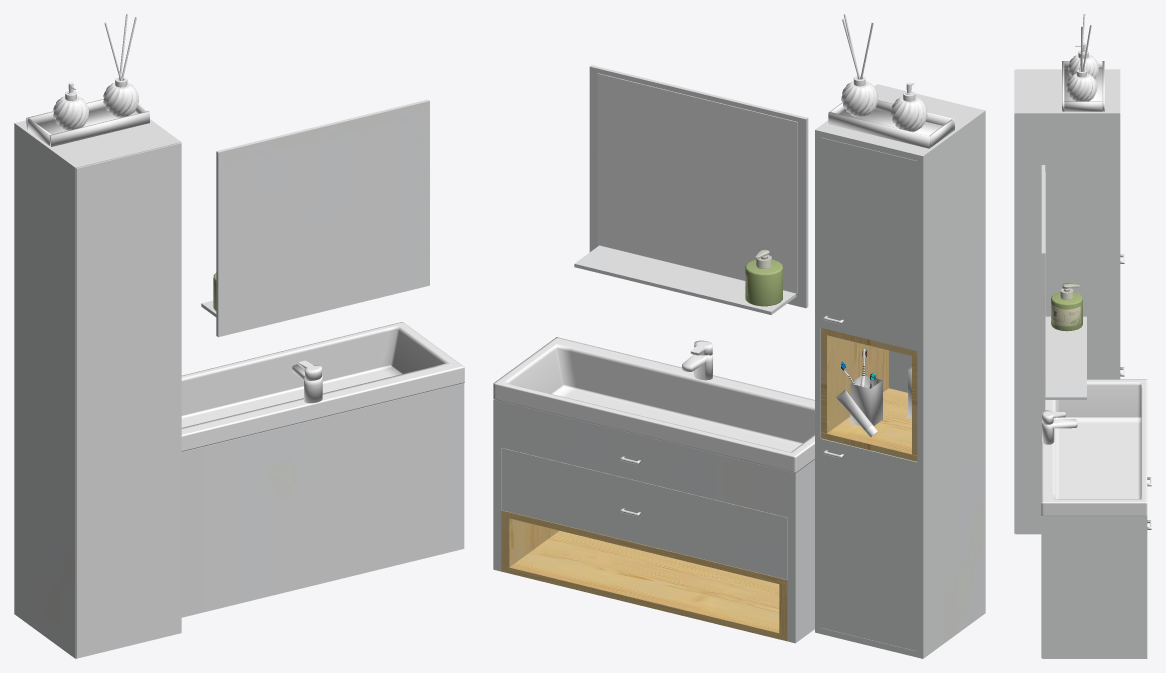
Rendered from bath_kit.glb.
3 views of the same model, side by side, from view 1: azimuth 30°, elevation 25°; view 2: azimuth 150°, elevation 25°; view 3: azimuth 270°, elevation 25° (orthographic). The views are drawn at different scales.
Visible parts, largest first — view 1: Tray; view 2: Tray; view 3: Tray.
Boxes of the visible parts, x1,y1,x2,y2 form: Tray: [14, 14, 464, 658]; Tray: [493, 14, 985, 658]; Tray: [1014, 14, 1151, 658].
Bounding box in the file's own units: 1.15 × 1.6 × 0.3929.
Materials: 22 (6 with a texture image).
